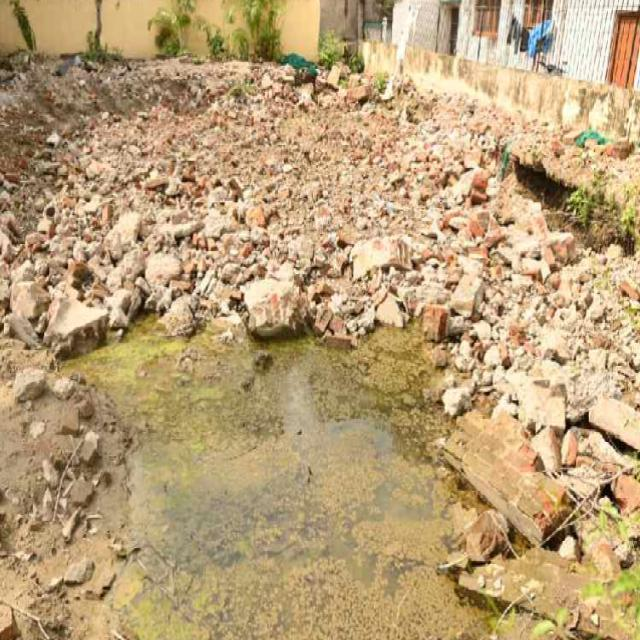Breeding Place: (1, 323, 558, 640)
